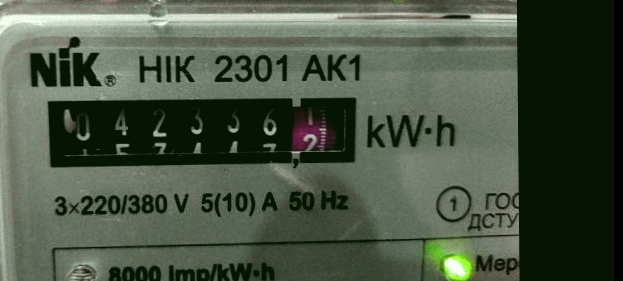0: (72, 109, 92, 142)
1: (302, 101, 314, 127)
2: (148, 104, 170, 138), (299, 132, 317, 153)
3: (185, 103, 203, 135), (224, 102, 241, 134)
4: (112, 104, 130, 137)
6: (259, 104, 280, 138)
screen: (34, 83, 370, 177)
